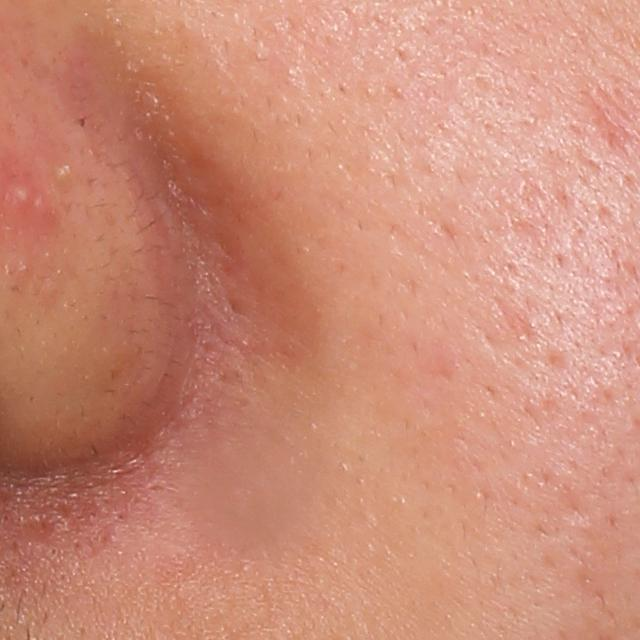pustule: (7, 175, 37, 206)
